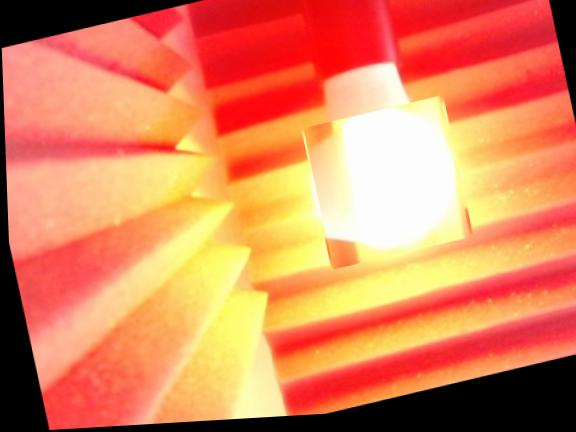TubeLight: (301, 100, 471, 274)
